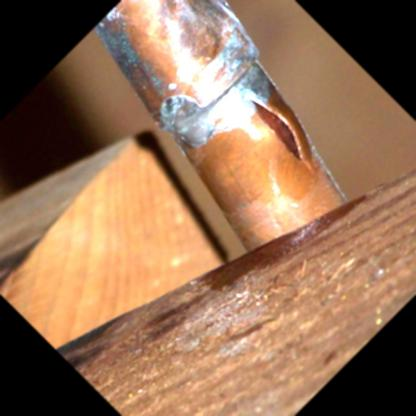burst: (243, 95, 318, 174)
